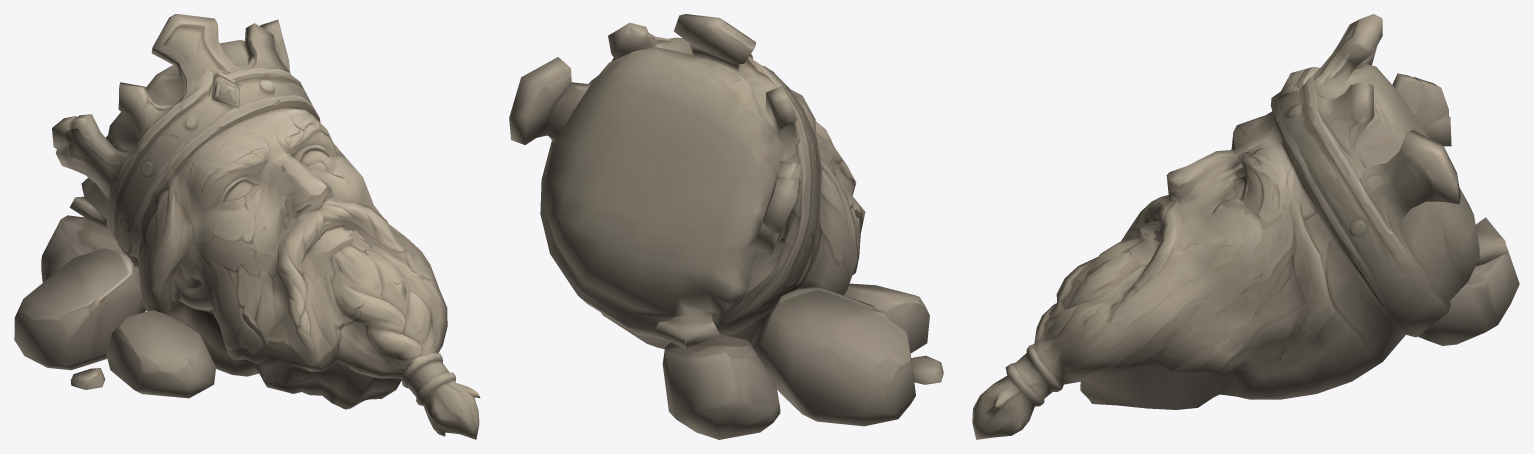
The model's file is testa_colosso.glb.
3 renders of one model, left to right at view 1: azimuth 30°, elevation 25°; view 2: azimuth 150°, elevation 25°; view 3: azimuth 270°, elevation 25°, orthographic. The views are drawn at different scales.
Visible parts, largest first — view 1: testa_colosso; view 2: testa_colosso; view 3: testa_colosso.
Boxes of the visible parts, box(x1,y1,x2,y2) form: testa_colosso: box(14, 14, 480, 439); testa_colosso: box(509, 14, 943, 439); testa_colosso: box(972, 14, 1519, 439).
Size of the model in its own units: 0.7173 by 0.7251 by 0.9995.
Materials: 1 (1 with a texture image).
